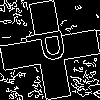P: (25, 25, 76, 66)
